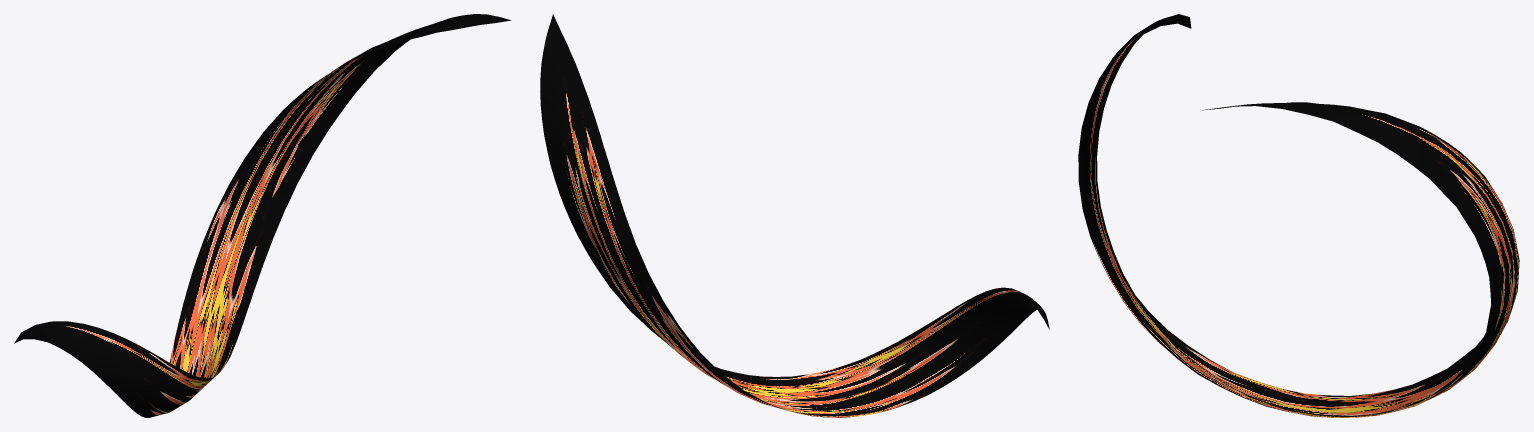
The model's file is EnkSpiral.fbx.
3 views of the same model, side by side, from view 1: azimuth 30°, elevation 25°; view 2: azimuth 150°, elevation 25°; view 3: azimuth 270°, elevation 25° (orthographic). The views are drawn at different scales.
Parts seen in each view (by area): view 1: SM_e_Skl_Fi_5Enk_Spiral001.001; view 2: SM_e_Skl_Fi_5Enk_Spiral001.001; view 3: SM_e_Skl_Fi_5Enk_Spiral001.001.
Boxes of the visible parts, box(x1,y1,x2,y2) form: SM_e_Skl_Fi_5Enk_Spiral001.001: box(14, 14, 511, 417); SM_e_Skl_Fi_5Enk_Spiral001.001: box(540, 14, 1049, 417); SM_e_Skl_Fi_5Enk_Spiral001.001: box(1078, 14, 1519, 417).
Size of the model in its own units: 5328 by 3172 by 2217.
